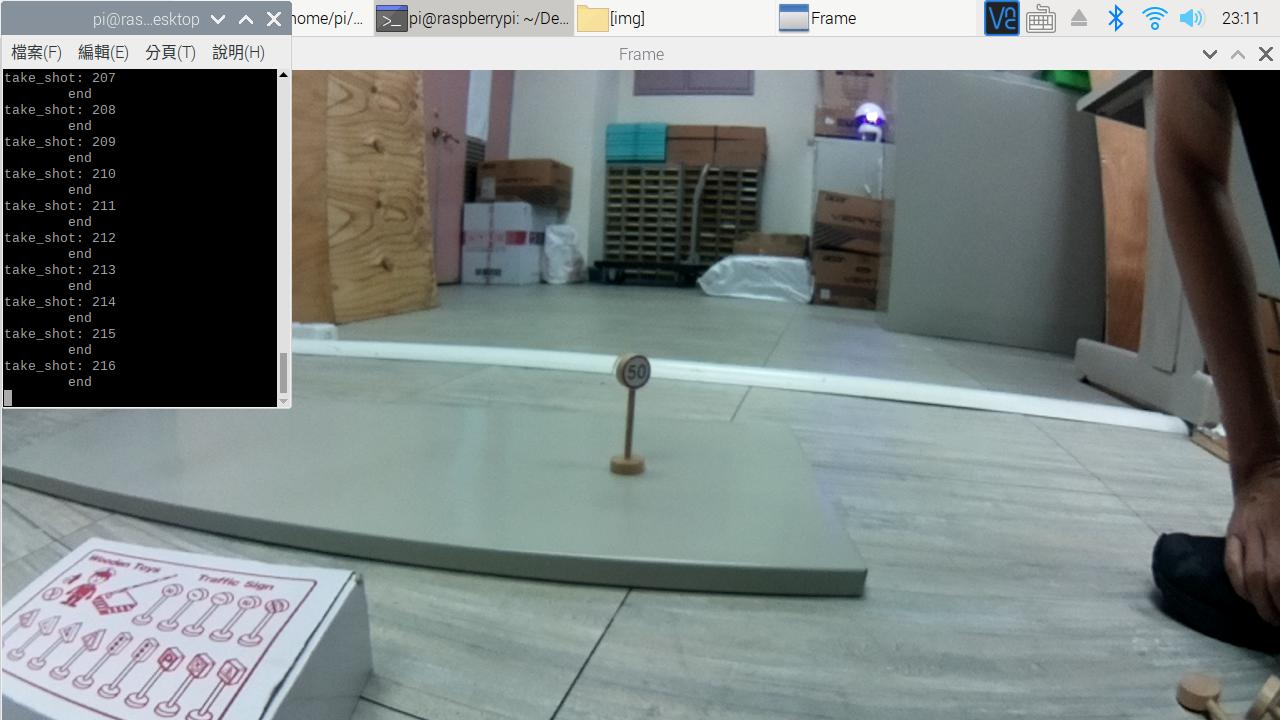Speed50: (599, 346, 664, 417)
